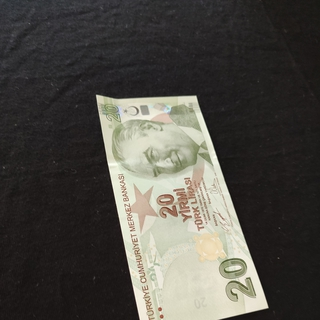20TLFront: (95, 93, 269, 320)
